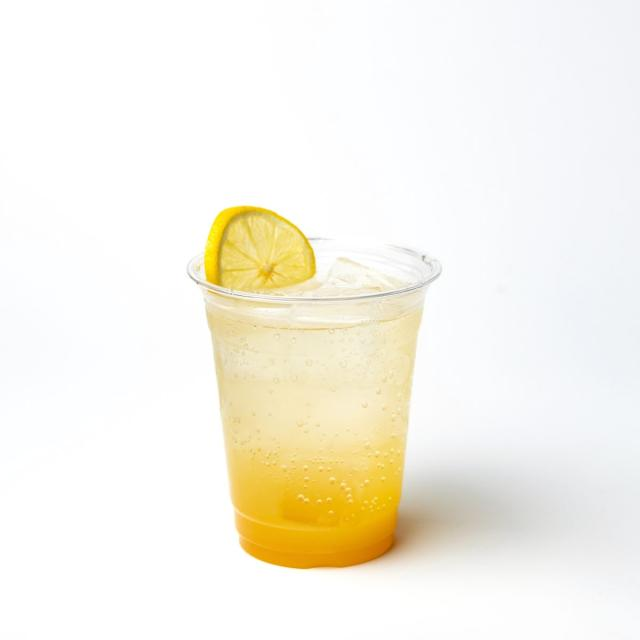plastic cup: (188, 204, 444, 570)
